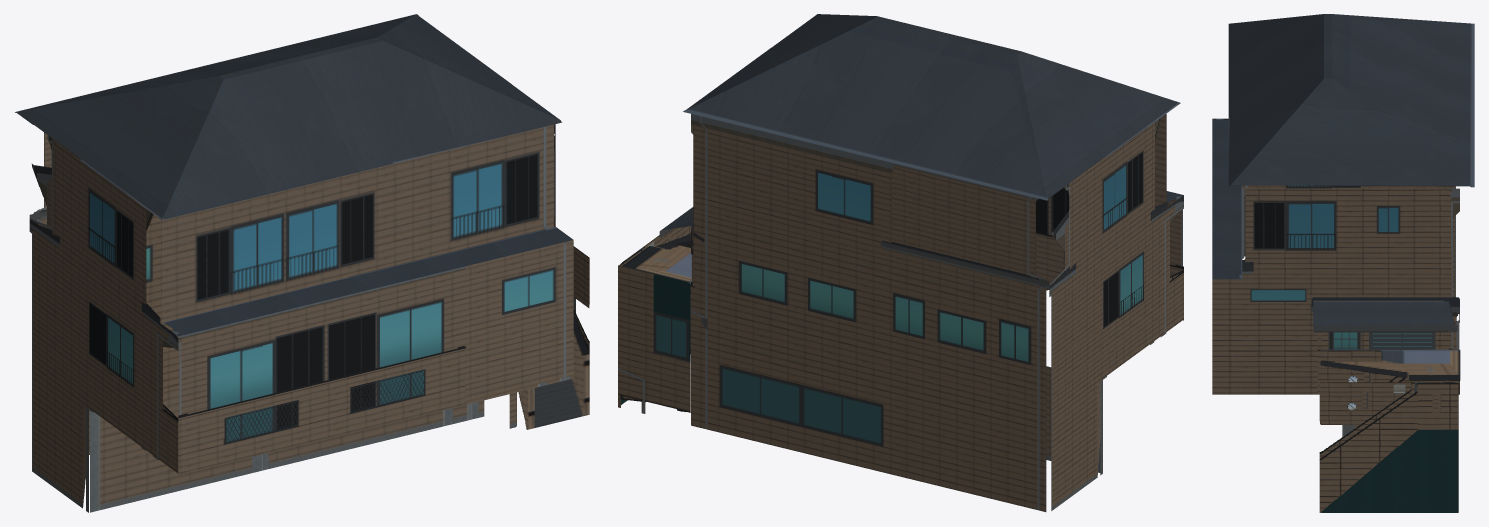
File: house_10_low.fbx
3 views of the same model, side by side, from view 1: azimuth 30°, elevation 25°; view 2: azimuth 150°, elevation 25°; view 3: azimuth 270°, elevation 25° (orthographic). The views are drawn at different scales.
Visible parts, largest first — view 1: pCube5; view 2: pCube5; view 3: pCube5.
Part boxes in pixels (x1=…): pCube5: x1=15, y1=14, x2=589, y2=512; pCube5: x1=618, y1=14, x2=1183, y2=511; pCube5: x1=1212, y1=14, x2=1474, y2=512.
Size of the model in its own units: 1237 by 1035 by 699.
5 materials, 5 textured.
